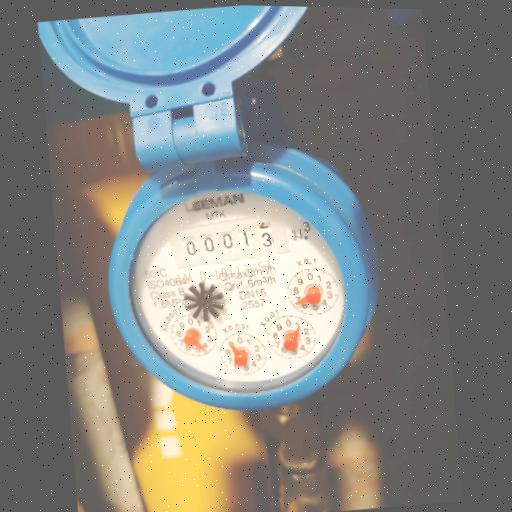0: (218, 229, 238, 256), (199, 232, 218, 259), (181, 235, 199, 261)
1: (238, 226, 255, 252)
3: (254, 218, 277, 253)
border_water_meter_number: (165, 208, 293, 275)
